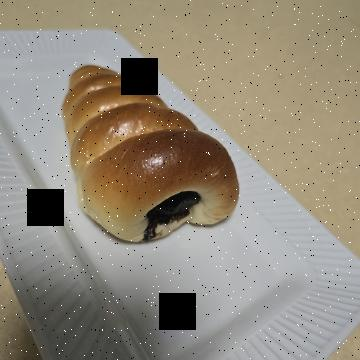cream horn: (57, 106, 271, 302)
